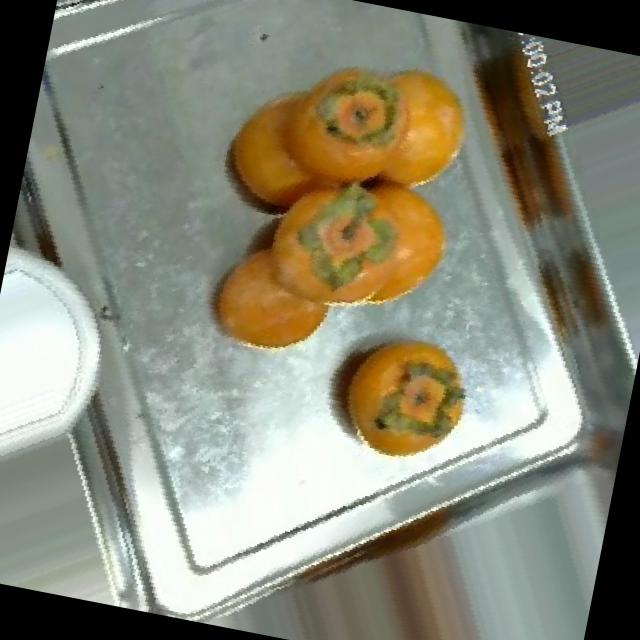Fruit: (248, 145, 480, 343), (280, 296, 504, 496), (177, 194, 369, 384)
